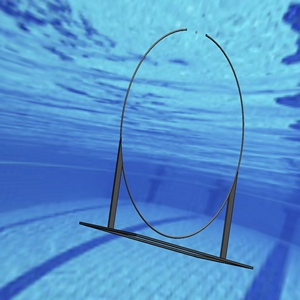circle: (78, 26, 255, 269)
